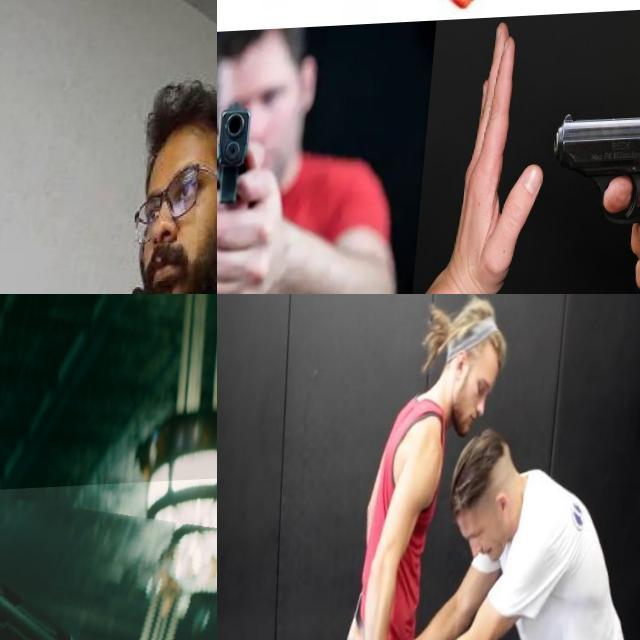gun-knife-thesis - v11 Yolov5 augmented: (0, 481, 217, 640), (458, 0, 640, 148), (540, 106, 640, 294), (217, 0, 429, 60), (217, 0, 426, 52), (217, 0, 414, 50), (217, 98, 265, 209)
